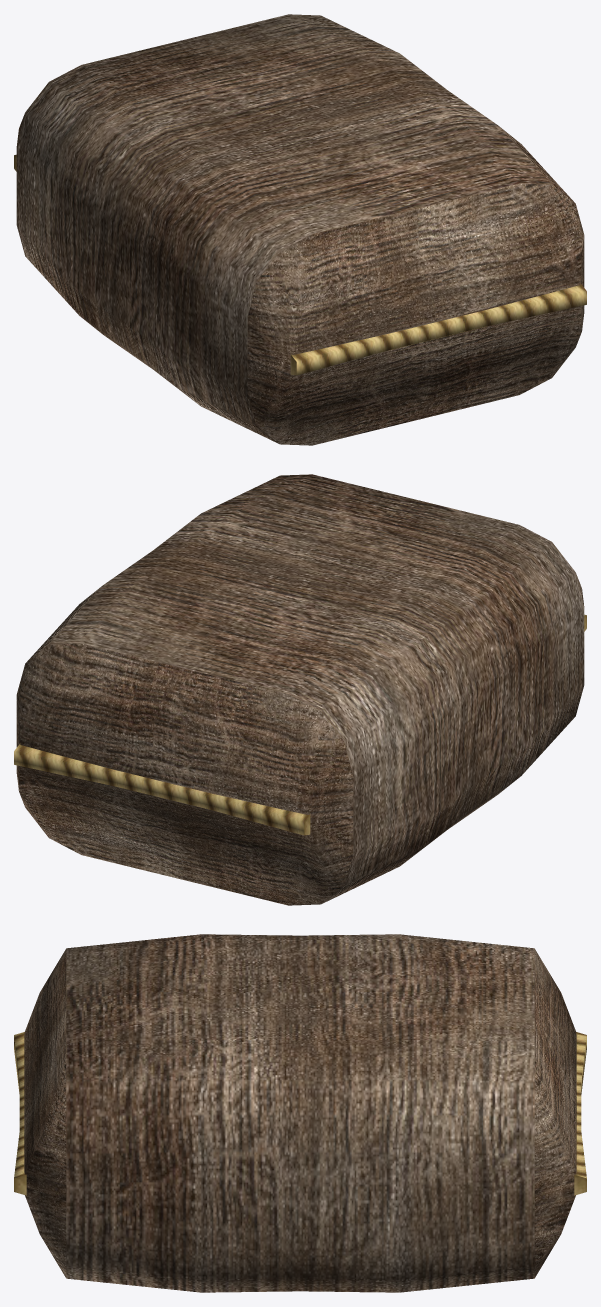
File: bag-01.fbx
3 renders of one model, top to bottom at view 1: azimuth 30°, elevation 25°; view 2: azimuth 150°, elevation 25°; view 3: azimuth 270°, elevation 25°, orthographic.
Visible parts, largest first — view 1: Cube.242; view 2: Cube.242; view 3: Cube.242.
Boxes of the visible parts, x1,y1,x2,y2 form: Cube.242: (14,14,586,445); Cube.242: (14,474,586,905); Cube.242: (14,934,586,1292).
Bounding box in the file's own units: 0.6679 × 0.4008 × 0.9049.
